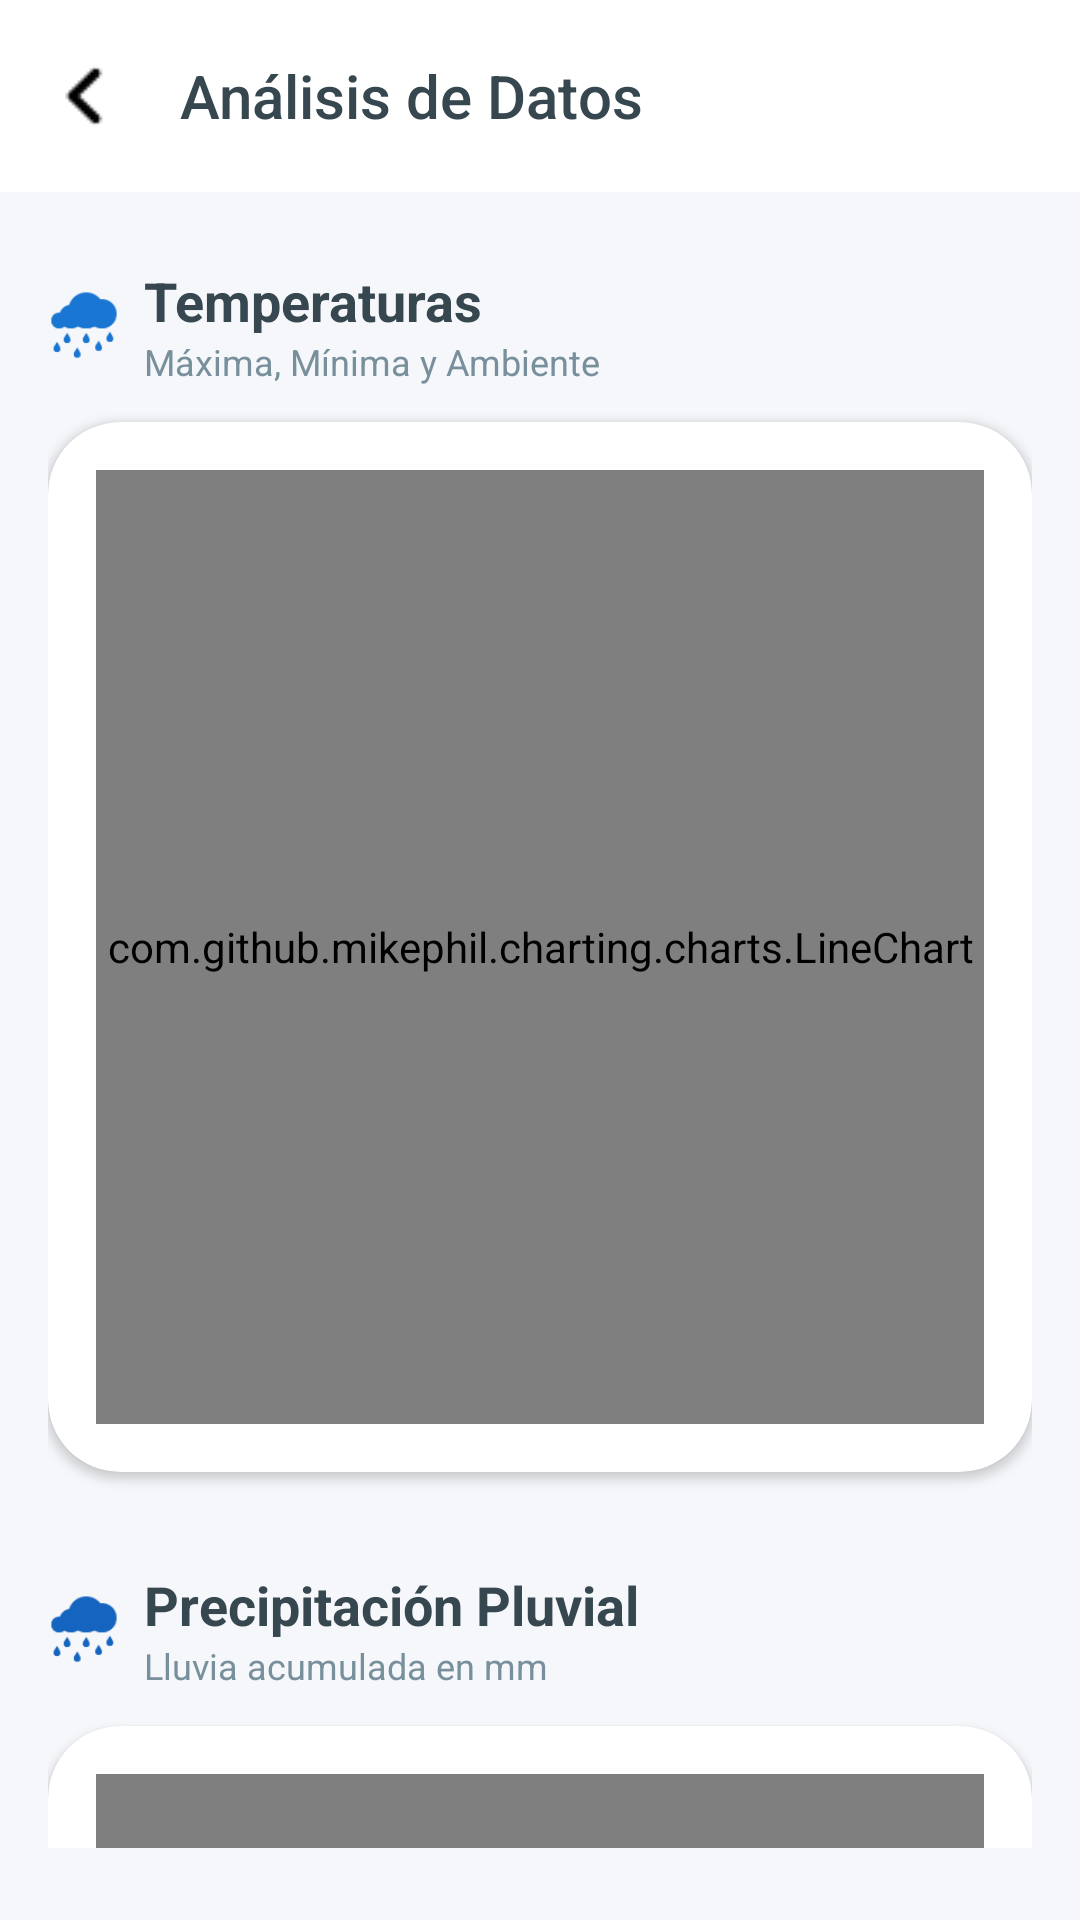

Named icons in this screenshot (1080x1920) and their bounding boxes, Rect(x1, y1, x2, y2):
climate: Rect(51, 292, 117, 358), Rect(51, 1596, 117, 1662)
